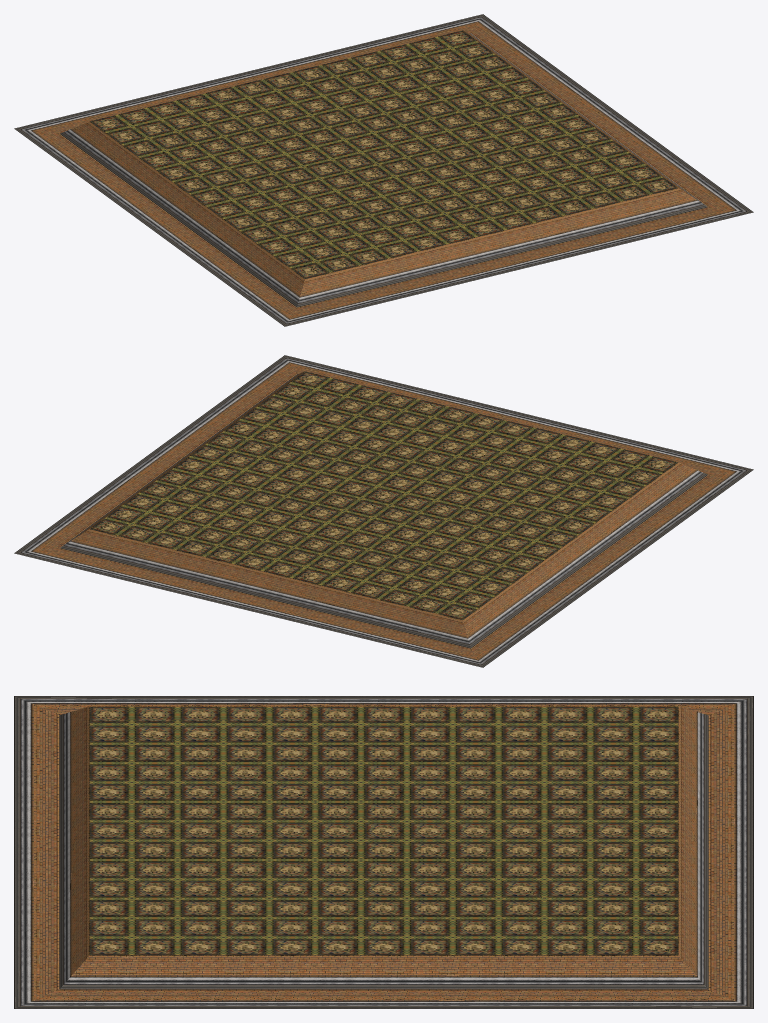
Rendered from Kunlun_Palace_wall2.FBX.
The picture shows the model from 3 angles, top to bottom: view 1: azimuth 30°, elevation 25°; view 2: azimuth 150°, elevation 25°; view 3: azimuth 270°, elevation 25°; orthographic projection. The views are drawn at different scales.
Parts seen in each view (by area): view 1: Plane001; view 2: Plane001; view 3: Plane001.
Boxes of the visible parts, x1,y1,x2,y2 form: Plane001: [14, 14, 753, 326]; Plane001: [14, 355, 753, 667]; Plane001: [14, 696, 753, 1008].
Size of the model in its own units: 4907 by 157 by 4907.
Materials: 2 (2 with a texture image).
